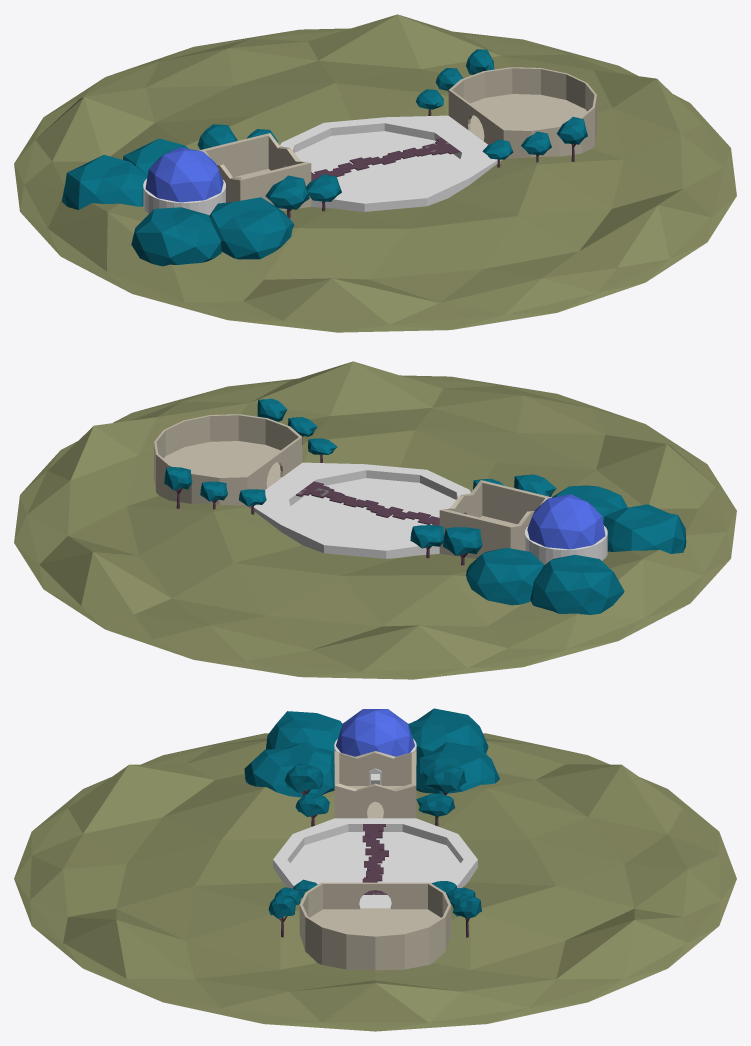
File: galleries1.dae
3 renders of one model, top to bottom at view 1: azimuth 30°, elevation 25°; view 2: azimuth 150°, elevation 25°; view 3: azimuth 270°, elevation 25°, orthographic.
Parts seen in each view (by area): view 1: Icosphere_002, Cylinder_001, Cylinder_002, Cube, tree-canopy_011, tree-canopy_008, tree-canopy_010, roof-dome, Cube_029, tree-canopy_012, Cylinder, tree-canopy_009 (+5 smaller); view 2: Icosphere_002, Cylinder_001, Cylinder_002, Cube, tree-canopy_010, tree-canopy_009, tree-canopy_011, roof-dome, Cube_029, Cylinder, tree-canopy_008, tree-canopy_013 (+4 smaller); view 3: Icosphere_002, Cylinder_002, Cylinder_001, Cube, tree-canopy_008, roof-dome, tree-canopy_010, tree-canopy_009, tree-canopy_011, Cube_029, tree-canopy_013, tree-canopy_012 (+3 smaller).
Boxes of the visible parts, box(x1,y1,x2,y2) form: Icosphere_002: box(14, 14, 736, 332); Cylinder_001: box(280, 115, 501, 211); Cylinder_002: box(448, 67, 596, 158); Cube: box(199, 133, 311, 210); tree-canopy_011: box(131, 207, 221, 266); tree-canopy_008: box(209, 197, 293, 259); tree-canopy_010: box(62, 155, 147, 209); roof-dome: box(145, 147, 223, 202); Cube_029: box(311, 138, 459, 181); tree-canopy_012: box(265, 175, 309, 209); Cylinder: box(143, 178, 225, 215); tree-canopy_009: box(123, 138, 188, 174); Icosphere_002: box(14, 361, 736, 679); Cylinder_001: box(248, 462, 470, 558); Cylinder_002: box(154, 414, 302, 505); Cube: box(439, 480, 551, 558); tree-canopy_010: box(530, 554, 624, 614); tree-canopy_009: box(466, 548, 544, 605); tree-canopy_011: box(603, 504, 686, 553); roof-dome: box(527, 494, 605, 549); Cube_029: box(296, 481, 439, 525); Cylinder: box(525, 525, 607, 564); tree-canopy_008: box(552, 485, 627, 521); tree-canopy_013: box(443, 527, 482, 555); Icosphere_002: box(14, 723, 736, 1031); Cylinder_002: box(299, 882, 451, 970); Cylinder_001: box(273, 818, 477, 908); Cube: box(334, 751, 416, 818); tree-canopy_008: box(244, 742, 334, 797); roof-dome: box(336, 709, 414, 756); tree-canopy_010: box(408, 708, 488, 763); tree-canopy_009: box(416, 742, 499, 793); tree-canopy_011: box(266, 711, 342, 762); Cube_029: box(362, 824, 388, 894); tree-canopy_013: box(422, 764, 466, 792); tree-canopy_012: box(284, 763, 323, 792).
Bounding box in the file's own units: 22.98 × 22.98 × 3.06.
